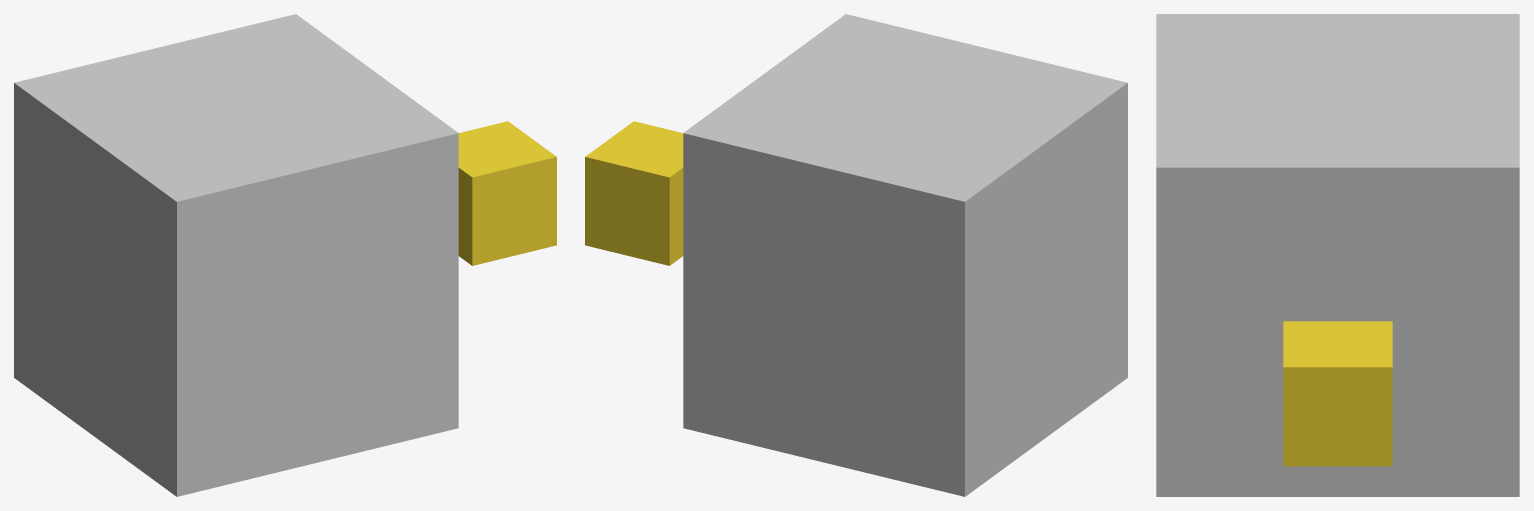
File: showroom.glb
The picture shows the model from 3 angles, left to right: view 1: azimuth 30°, elevation 25°; view 2: azimuth 150°, elevation 25°; view 3: azimuth 270°, elevation 25°; orthographic projection. The views are drawn at different scales.
Parts seen in each view (by area): view 1: Cube, Marker; view 2: Cube, Marker; view 3: Cube, Marker.
Boxes of the visible parts, x1,y1,x2,y2 form: Cube: (14, 14, 458, 496); Marker: (458, 121, 556, 265); Cube: (683, 14, 1127, 496); Marker: (585, 121, 683, 265); Cube: (1156, 14, 1519, 496); Marker: (1283, 321, 1392, 466).
Bounding box in the file's own units: 1.55 × 1 × 1.
